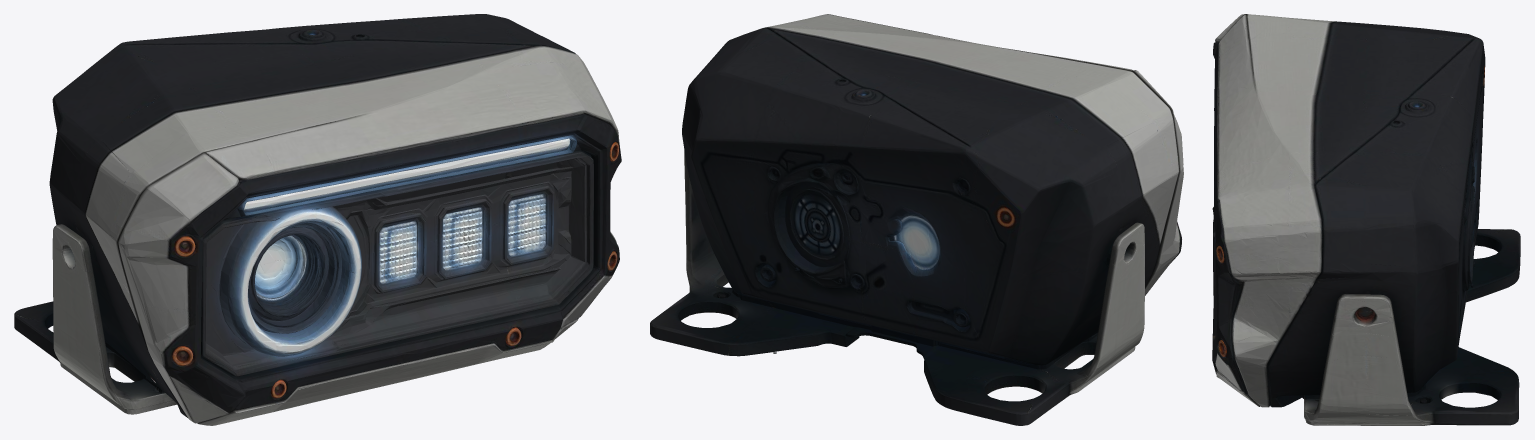
Rendered from headlamp.glb.
The picture shows the model from 3 angles, left to right: view 1: azimuth 30°, elevation 25°; view 2: azimuth 150°, elevation 25°; view 3: azimuth 270°, elevation 25°; orthographic projection. The views are drawn at different scales.
Size of the model in its own units: 1 by 0.5423 by 0.6178.
Materials: 1 (1 with a texture image).
